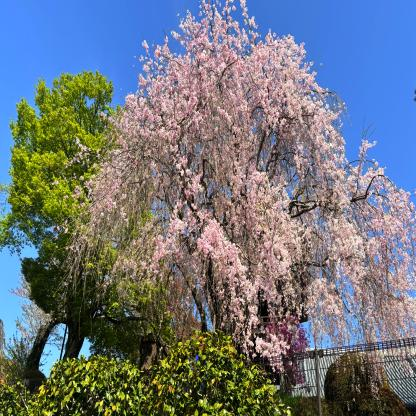ShidareZakura: (49, 0, 416, 396)
